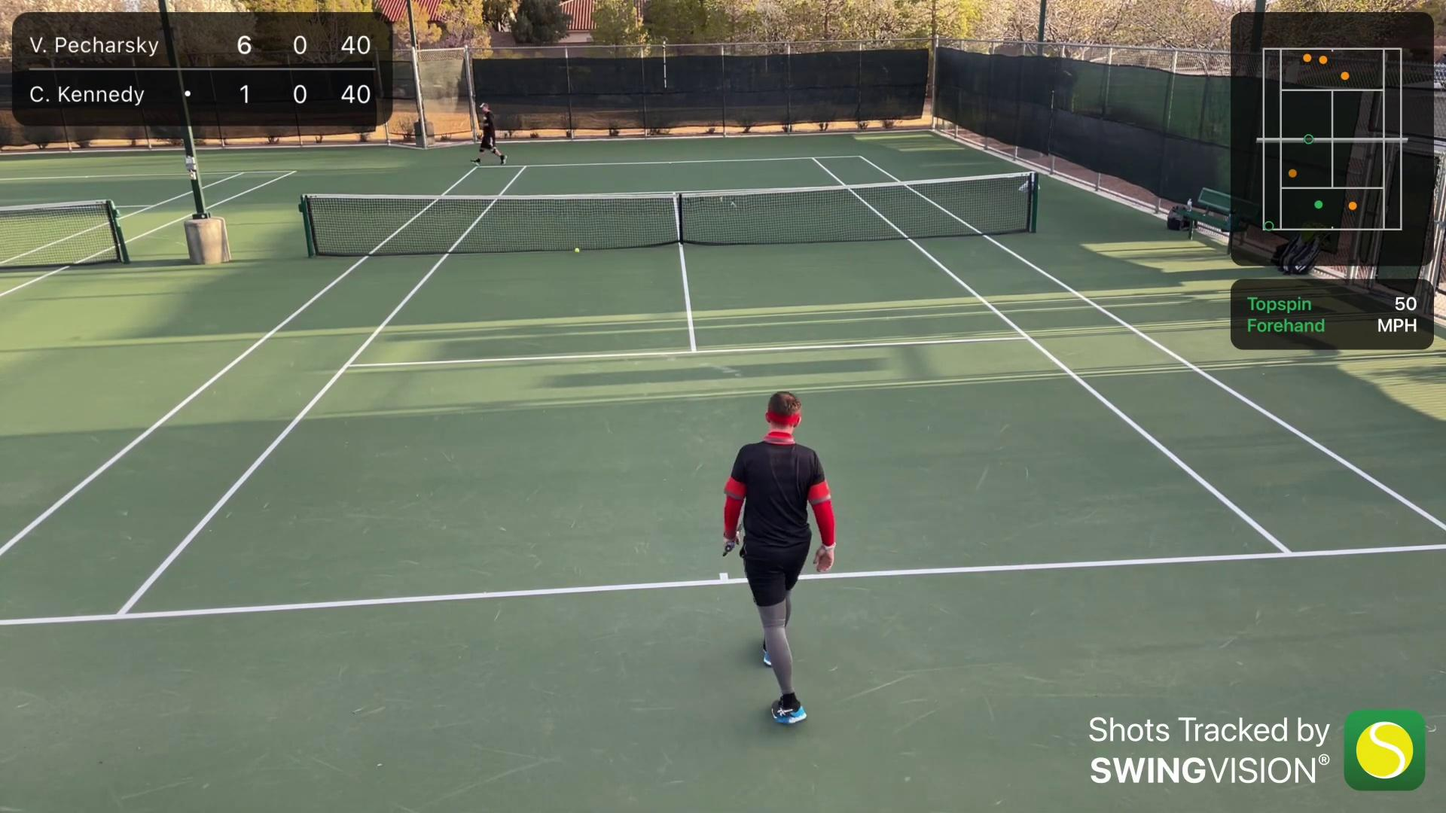ball: (574, 247, 580, 253)
